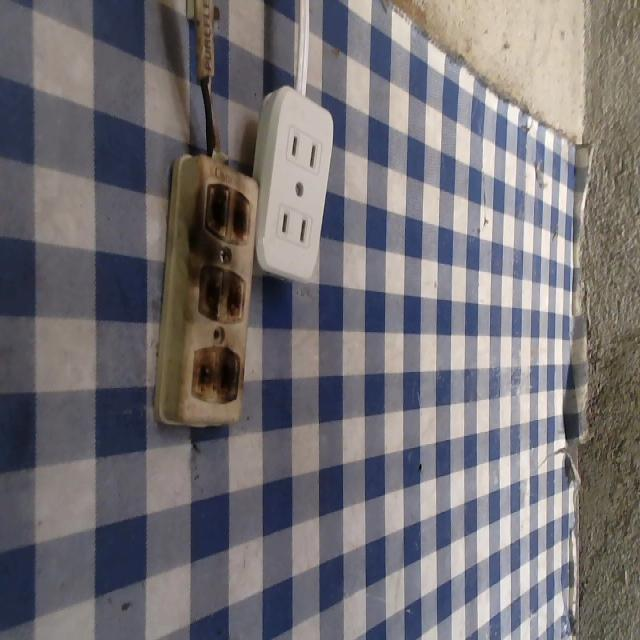-: (202, 172, 254, 251), (194, 259, 246, 324), (189, 341, 241, 403)
